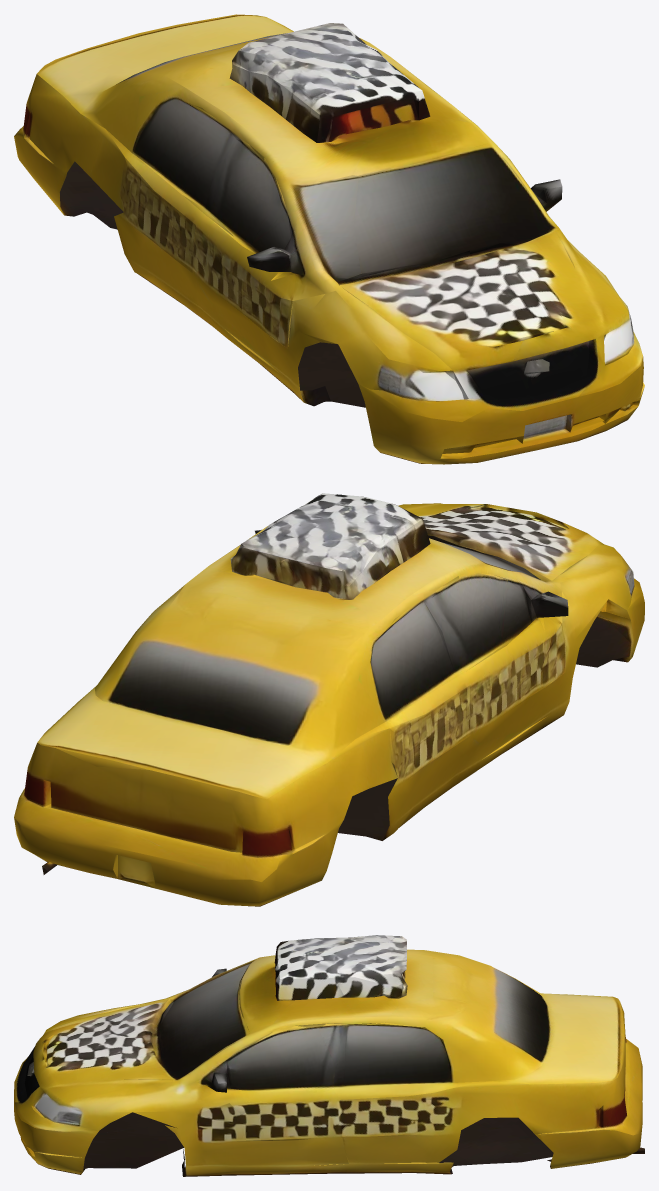
Rendered from taxiCab.glb.
The picture shows the model from 3 angles, top to bottom: view 1: azimuth 30°, elevation 25°; view 2: azimuth 150°, elevation 25°; view 3: azimuth 270°, elevation 25°; orthographic projection. The views are drawn at different scales.
Parts seen in each view (by area): view 1: model; view 2: model; view 3: model.
Part boxes in pixels (x1,y1,x2,y2): model: (14,14,644,464); model: (14,493,644,906); model: (14,935,644,1176).
Size of the model in its own units: 0.8166 by 0.5952 by 1.89.
Materials: 1 (1 with a texture image).
